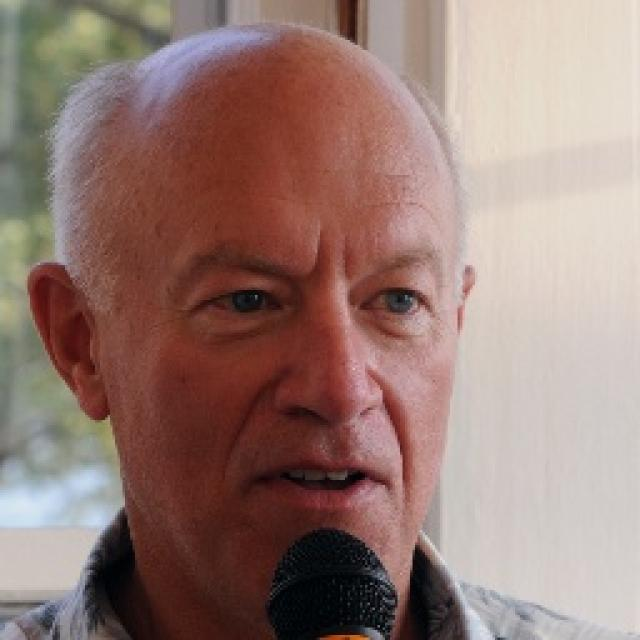earlobe: (64, 366, 110, 422)
eye: (360, 288, 436, 316), (205, 288, 282, 314)
nose: (273, 408, 377, 456)
wholeear: (24, 261, 110, 423)
